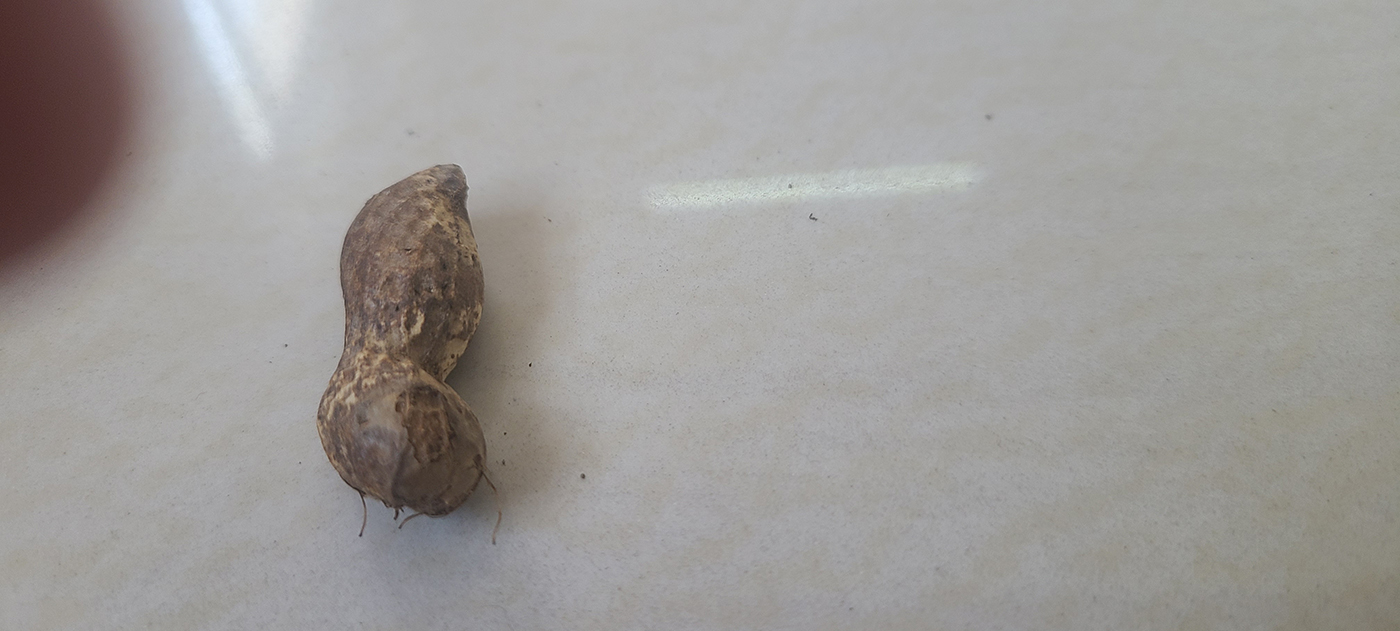l: (315, 161, 492, 515)
